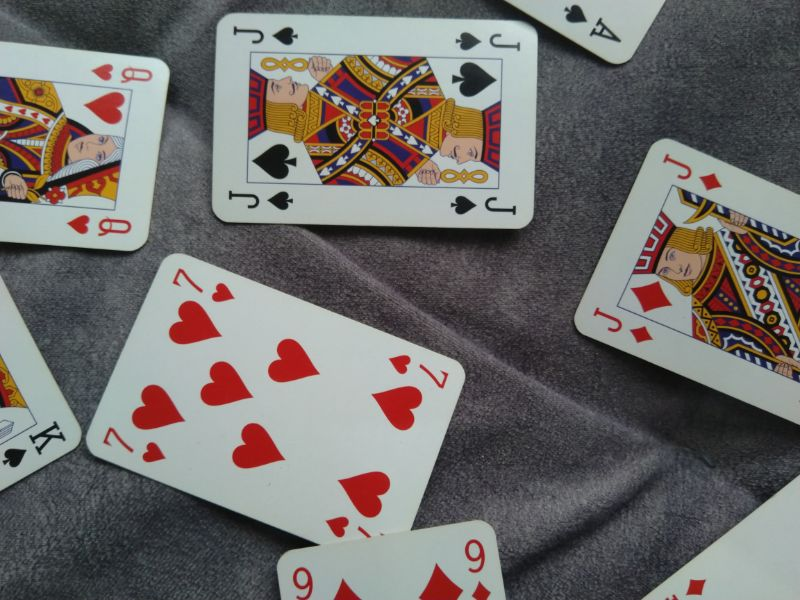7h: (168, 262, 239, 305), (96, 424, 170, 464), (386, 352, 451, 390)
9d: (462, 535, 493, 600)
As: (560, 1, 623, 44)
Jd: (660, 150, 726, 193), (591, 303, 657, 345)
Js: (447, 26, 525, 55), (222, 184, 298, 213), (226, 23, 303, 51), (447, 190, 523, 218)
Ks: (2, 420, 69, 469)
Qh: (59, 206, 135, 240), (88, 58, 158, 87)
